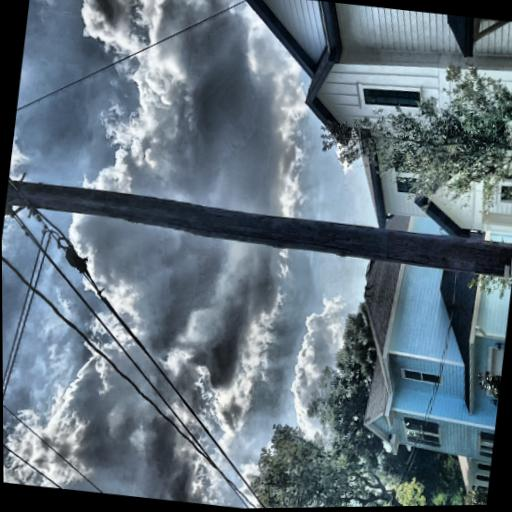pole: (58, 0, 177, 495)
street light: (71, 0, 162, 15)
